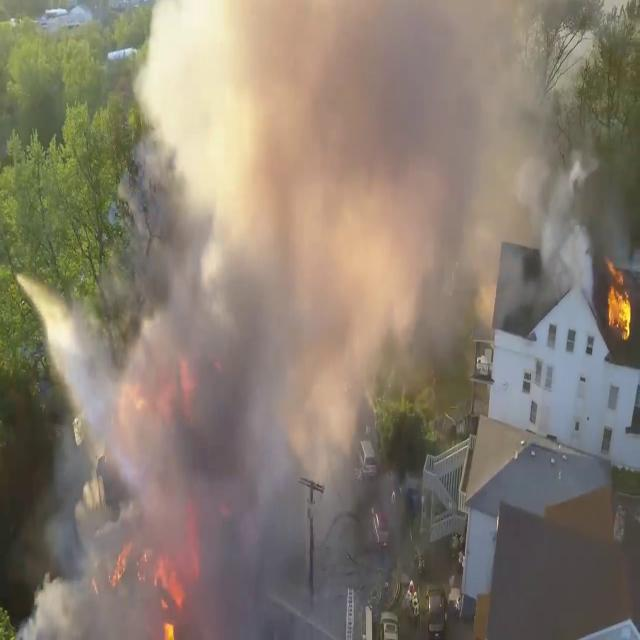Fire: (604, 260, 634, 343)
Smoke: (83, 0, 616, 574)
